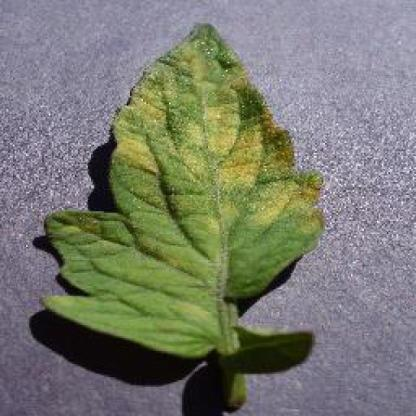Tomato_Leaf_Mold: (41, 23, 327, 372)
